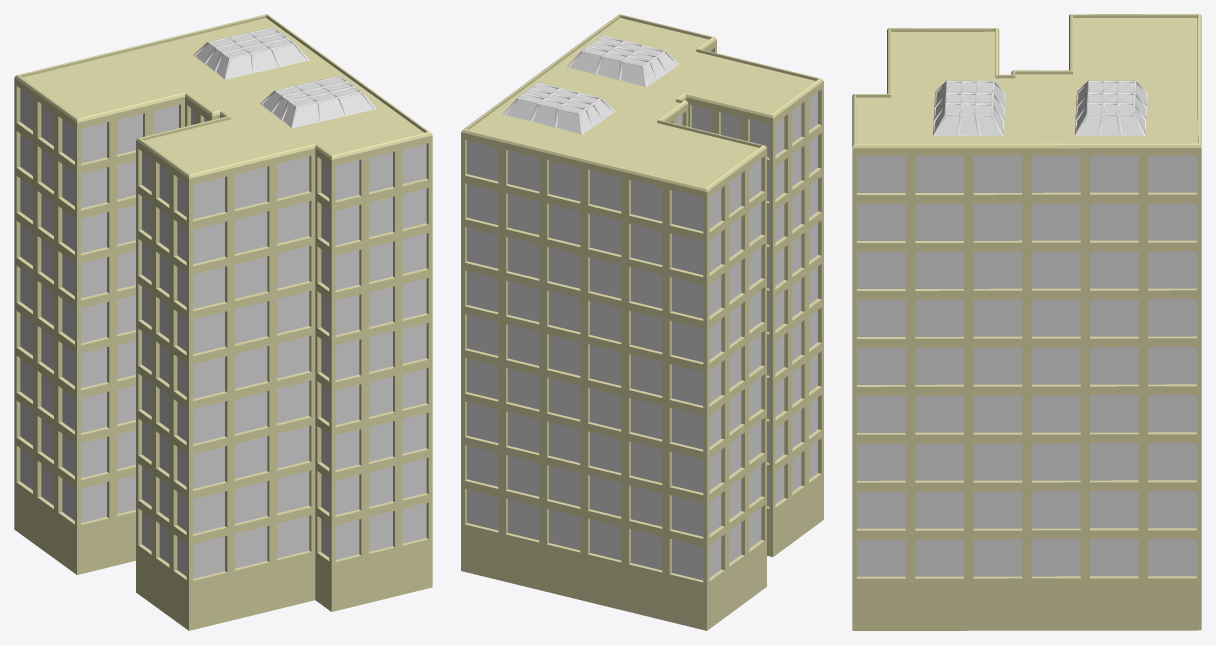
File: Building6_re_06.fbx
The picture shows the model from 3 angles, left to right: view 1: azimuth 30°, elevation 25°; view 2: azimuth 150°, elevation 25°; view 3: azimuth 270°, elevation 25°; orthographic projection. The views are drawn at different scales.
Parts seen in each view (by area): view 1: Main.004, Window.001, Building6_Window, Building6_Window.002, Building6_Pole.001, Building6_Pole; view 2: Main.004, Window.001, Building6_Window, Building6_Window.002, Building6_Pole.001, Building6_Pole; view 3: Main.004, Window.001, Building6_Window, Building6_Window.002, Building6_Pole, Building6_Pole.001.
Part boxes in pixels (bbox=[...]): Main.004: bbox=[14, 14, 432, 630]; Window.001: bbox=[20, 89, 426, 578]; Building6_Window: bbox=[262, 77, 373, 126]; Building6_Window.002: bbox=[196, 29, 306, 78]; Building6_Pole.001: bbox=[193, 27, 309, 79]; Building6_Pole: bbox=[260, 75, 376, 128]; Main.004: bbox=[461, 14, 823, 630]; Window.001: bbox=[467, 51, 817, 580]; Building6_Window: bbox=[570, 37, 677, 85]; Building6_Window.002: bbox=[505, 84, 612, 133]; Building6_Pole.001: bbox=[502, 82, 615, 134]; Building6_Pole: bbox=[567, 35, 679, 87]; Main.004: bbox=[852, 14, 1201, 630]; Window.001: bbox=[857, 155, 1196, 576]; Building6_Window: bbox=[934, 82, 1004, 135]; Building6_Window.002: bbox=[1076, 82, 1146, 135]; Building6_Pole: bbox=[933, 80, 1005, 136]; Building6_Pole.001: bbox=[1074, 80, 1147, 136].
Size of the model in its own units: 2748 by 4861 by 3066.
